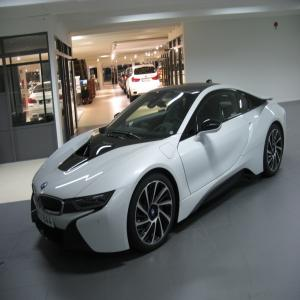Vehicle-registration-plate: (37, 211, 56, 230), (144, 80, 151, 82)
